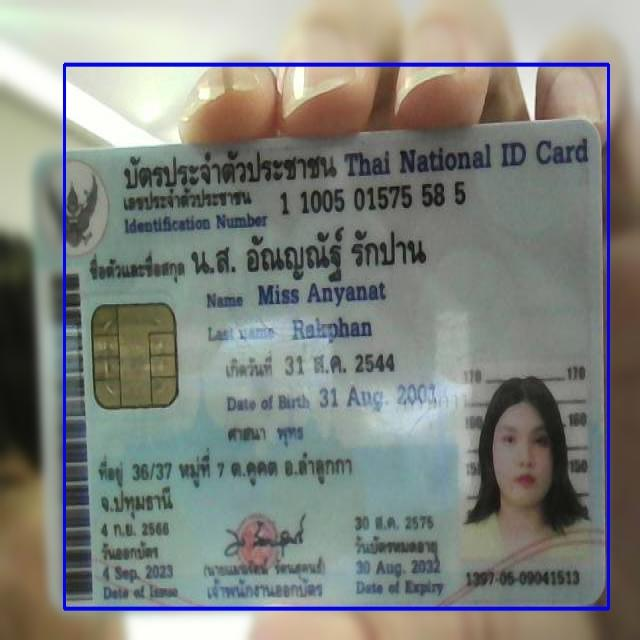Address_th: (94, 442, 358, 522)
Date_of_Birth: (314, 378, 438, 417)
Date_of_Expiry: (353, 555, 448, 580)
Date_of_Issue: (94, 562, 182, 584)
First_Name: (253, 279, 390, 312)
ID_Number: (276, 177, 472, 220)
Image: (458, 364, 591, 566)
Last_Name: (287, 314, 375, 347)
Thai_Name: (184, 222, 443, 284)
